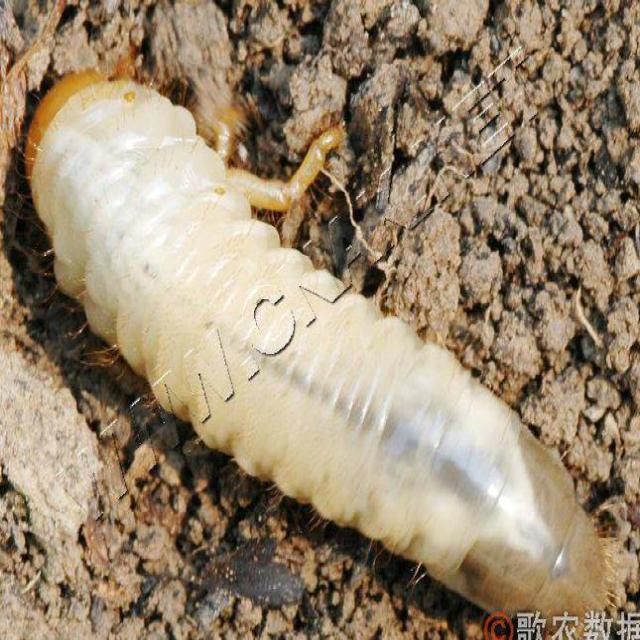Grub-Adult-: (26, 51, 615, 628)
